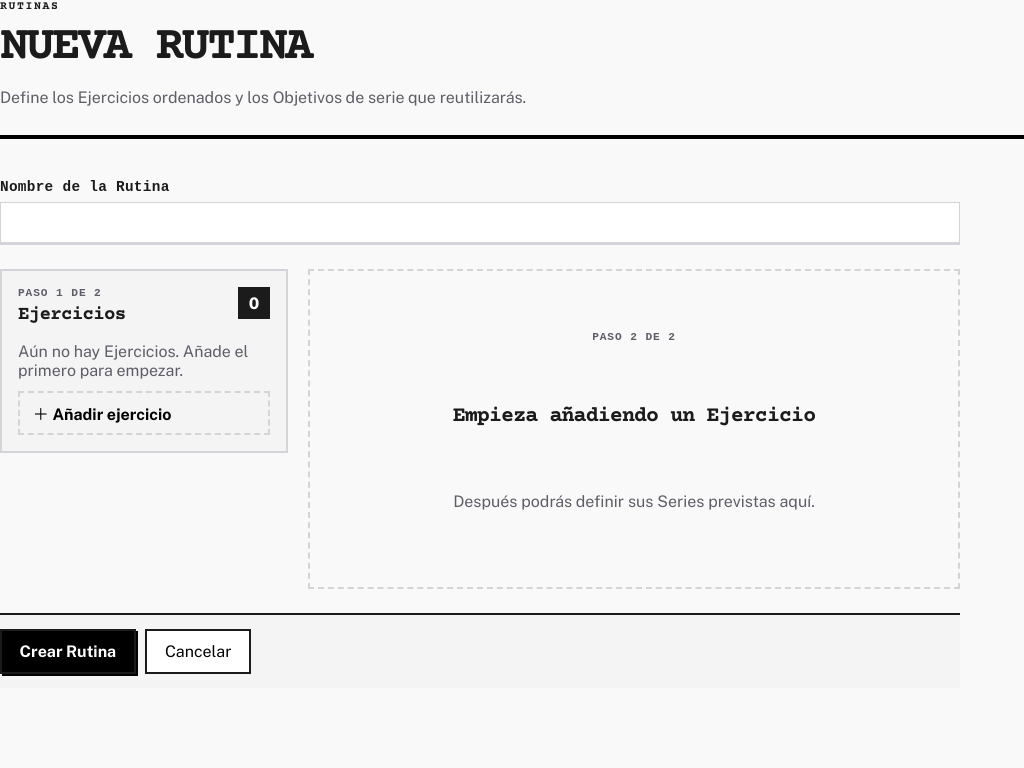
crear una Rutina › buscar un Ejercicio filtra el listado sin enviar el formulario de la Rutina
Click the button "＋ Añadir ejercicio" at (144, 413), box [18,391,270,435]
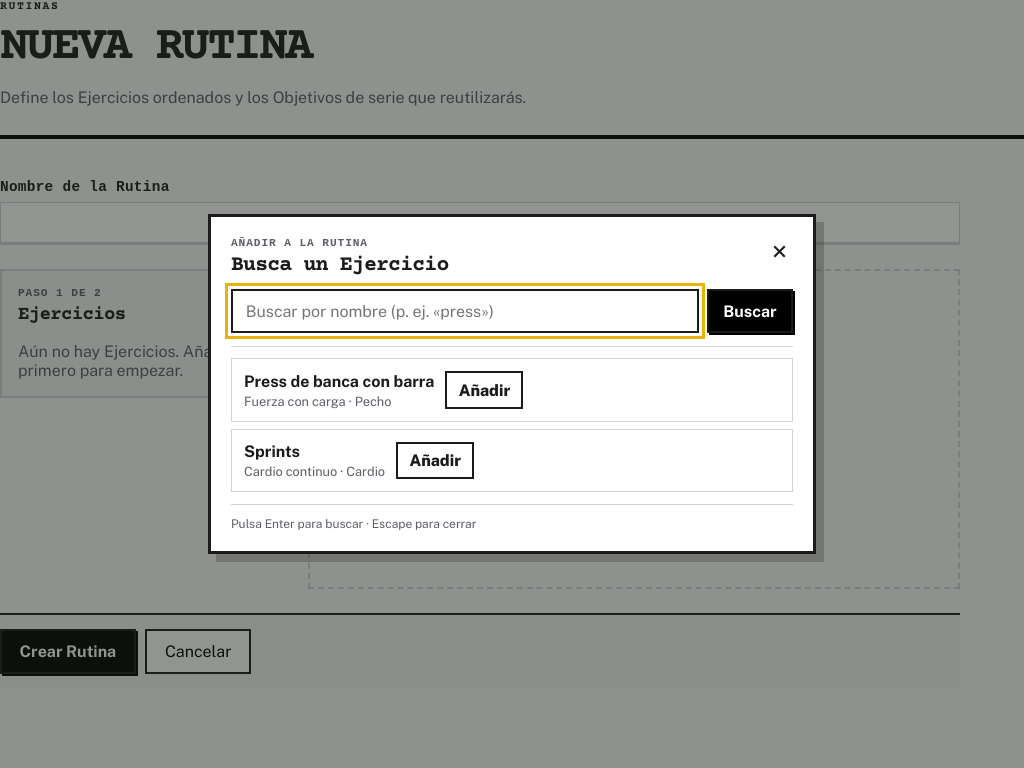
Type "press" into the search field named "Buscar Ejercicios disponibles" at (465, 311), box [231,289,699,333]
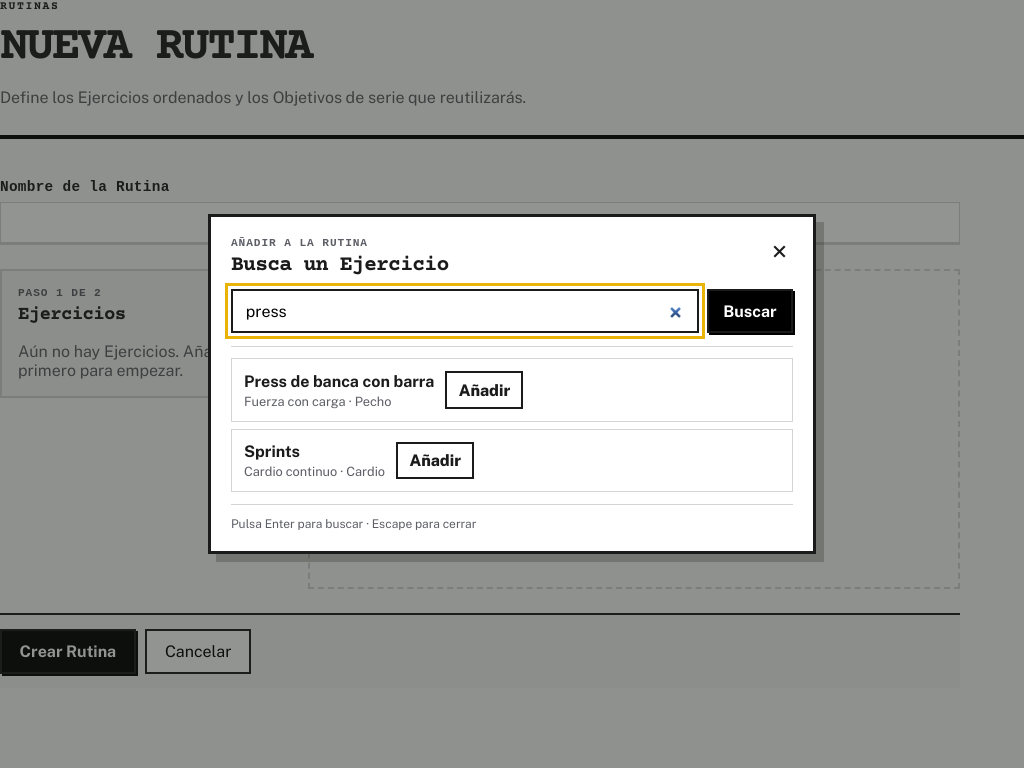
Click the button "Buscar" at (750, 311), box [707,289,793,333]
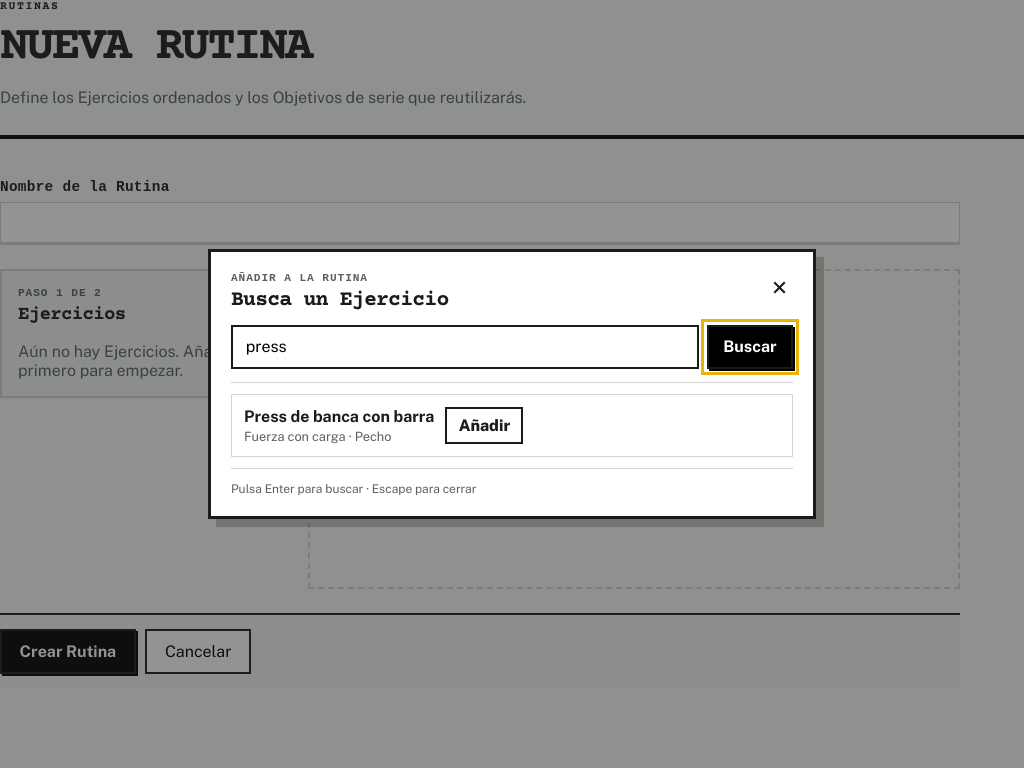
Now the text "Press de banca con barra" is shown, box [244,407,434,426]
Now the text "Sprints" is gone
